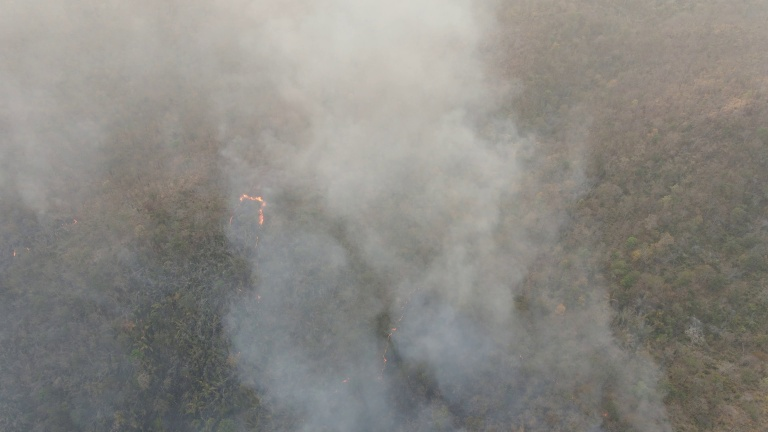fire: (373, 281, 418, 377), (14, 217, 75, 263), (236, 193, 268, 240)
smoke: (1, 1, 630, 430)
